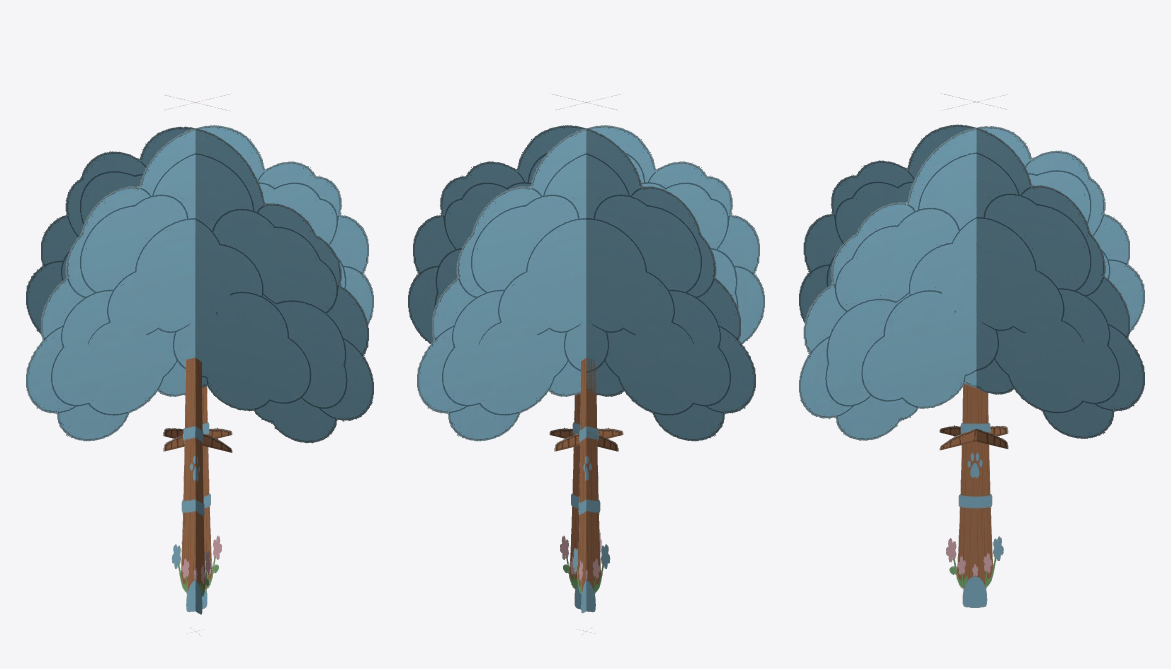
File: nyanisyarud-tree-blue.glb
3 renders of one model, left to right at view 1: azimuth 30°, elevation 25°; view 2: azimuth 150°, elevation 25°; view 3: azimuth 270°, elevation 25°, orthographic.
Bounding box in the file's own units: 1.8 × 2.51 × 1.56.
2 materials, 2 textured.
